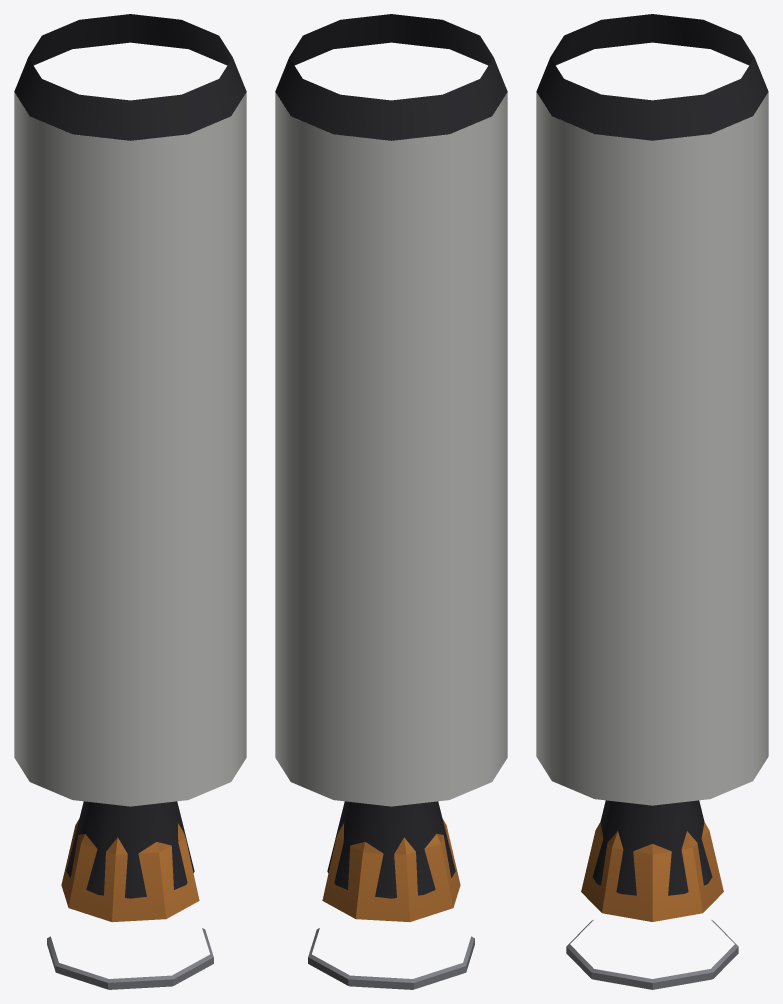
The picture shows the model from 3 angles, left to right: view 1: azimuth 30°, elevation 25°; view 2: azimuth 150°, elevation 25°; view 3: azimuth 270°, elevation 25°; orthographic projection.
Parts seen in each view (by area): view 1: upper.hull, upper.dark, upper.bell, upper.metal; view 2: upper.hull, upper.dark, upper.bell, upper.metal; view 3: upper.hull, upper.dark, upper.bell, upper.metal.
Part boxes in pixels (x1,y1,x2,y2): upper.hull: (14,92,246,806); upper.dark: (14,14,246,898); upper.bell: (61,819,199,922); upper.metal: (47,928,213,989); upper.hull: (275,92,507,806); upper.dark: (275,14,507,898); upper.bell: (322,819,460,922); upper.metal: (308,928,474,989); upper.hull: (536,92,768,805); upper.dark: (536,14,768,895); upper.bell: (581,822,723,921); upper.metal: (566,920,738,989).
Bounding box in the file's own units: 3.66 × 15.61 × 3.66.
